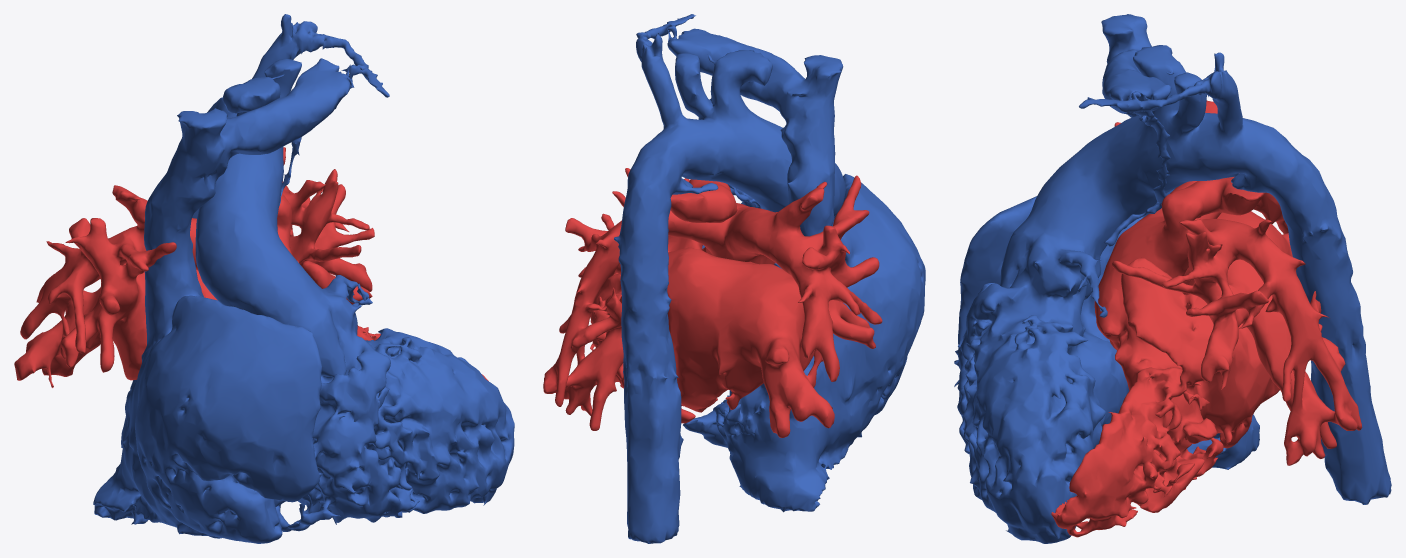
Rendered from transposition-of-the-great-arteries.glb.
3 views of the same model, side by side, from view 1: azimuth 30°, elevation 25°; view 2: azimuth 150°, elevation 25°; view 3: azimuth 270°, elevation 25° (orthographic). The views are drawn at different scales.
Visible parts, largest first — view 1: systemic-circulation, pulmonary-circulation; view 2: systemic-circulation, pulmonary-circulation; view 3: systemic-circulation, pulmonary-circulation.
Part boxes in pixels (left/top/right/bottom): systemic-circulation: left=93, top=14, right=514, bottom=543; pulmonary-circulation: left=14, top=147, right=488, bottom=387; systemic-circulation: left=614, top=14, right=925, bottom=543; pulmonary-circulation: left=543, top=168, right=882, bottom=437; systemic-circulation: left=954, top=14, right=1391, bottom=543; pulmonary-circulation: left=1051, top=100, right=1362, bottom=537.
Bounding box in the file's own units: 0.1486 × 0.1809 × 0.1515.
